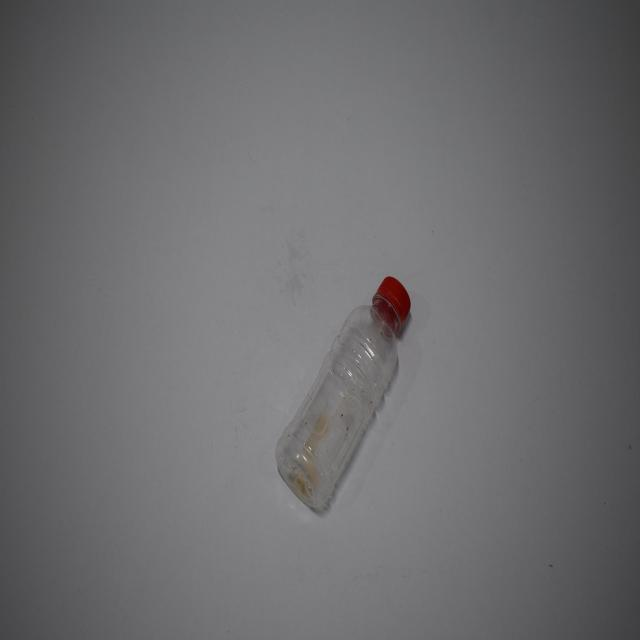empty: (276, 277, 410, 508)
